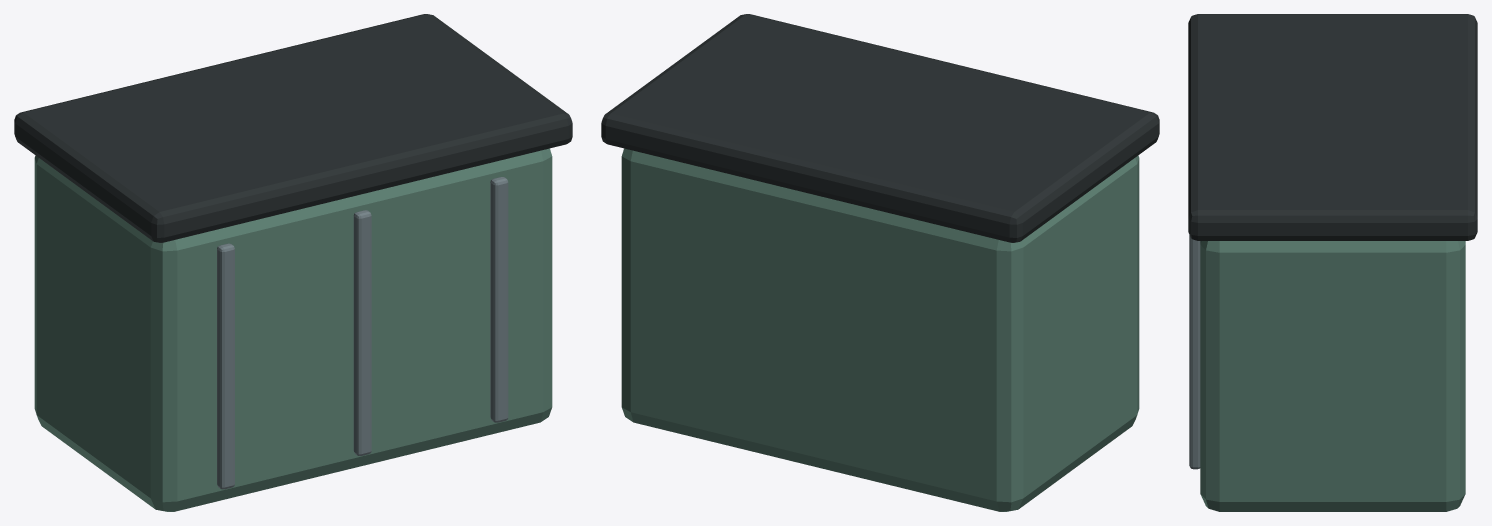
The model's file is dumpster.glb.
The picture shows the model from 3 angles, left to right: view 1: azimuth 30°, elevation 25°; view 2: azimuth 150°, elevation 25°; view 3: azimuth 270°, elevation 25°; orthographic projection.
Parts seen in each view (by area): view 1: Dumpster; view 2: Dumpster; view 3: Dumpster.
Part boxes in pixels (x1,y1,x2,y2): Dumpster: (14, 14, 572, 511); Dumpster: (601, 14, 1159, 511); Dumpster: (1188, 14, 1477, 511).
Size of the model in its own units: 2 by 1.42 by 1.2.
